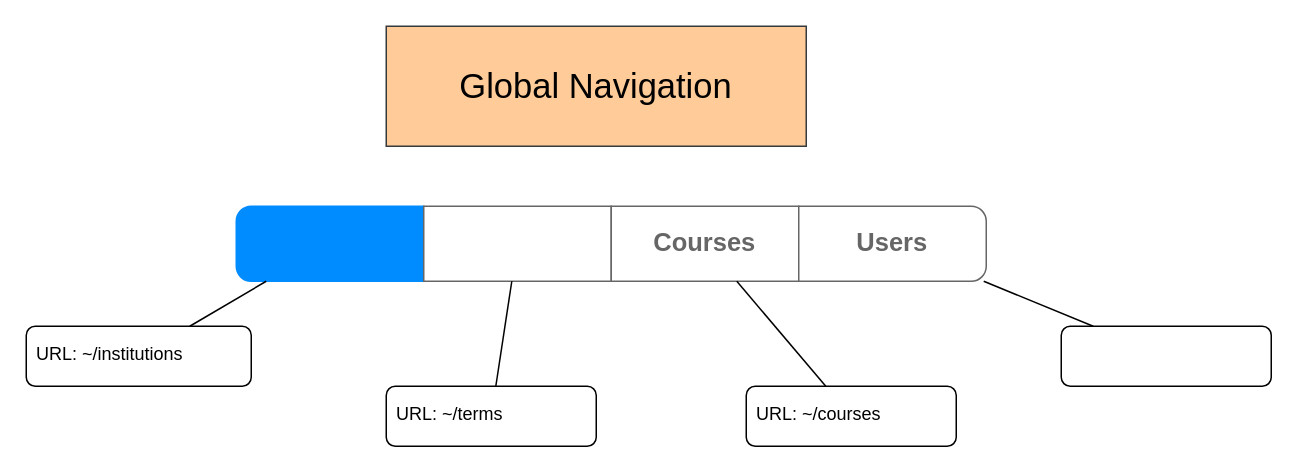
Image size: 1298x473. Some labels were removed from this diagram. Each missing label, with the centre of its shape:
"Institutions" goes at point (329, 243).
"Terms" goes at point (516, 243).
"URL: ~/users" goes at point (1165, 355).
